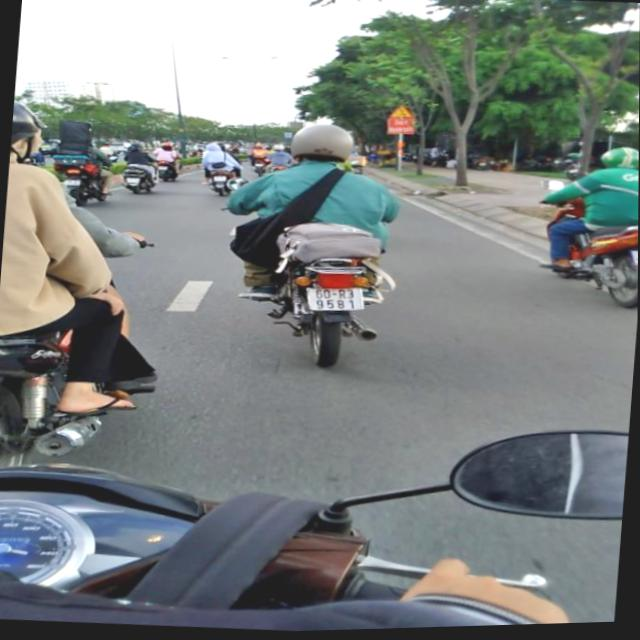Ben xe buyt: (282, 133, 293, 142)
Di cham: (384, 106, 413, 122)
